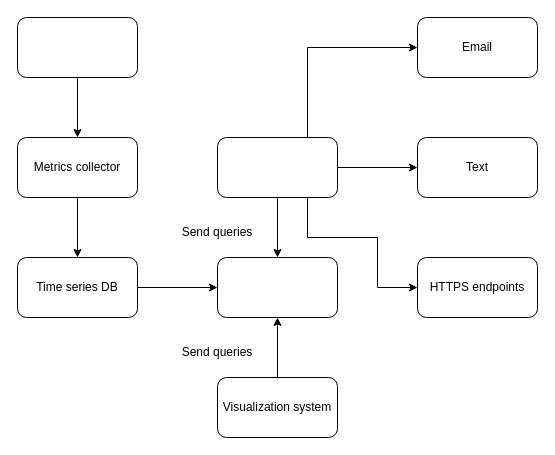
Some shapes in this 555 by 455 pixel diagram are drawn without their labels. The shapes that lost their labels are listed below. From the top down, each one's box as (x1, y1, x2, y2) in pixels, then its label:
(16, 16, 138, 78): Metrics source
(216, 136, 338, 198): Alerting system
(216, 256, 338, 318): Query service
